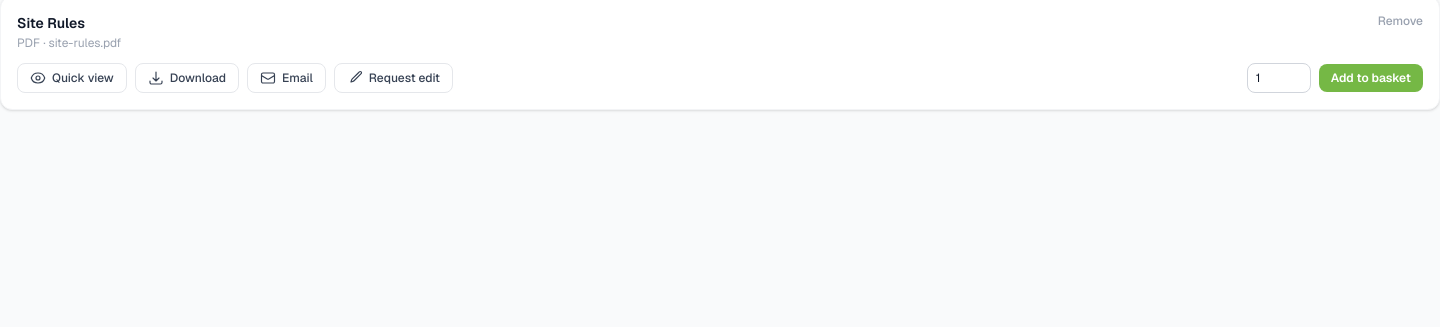
it: request edit › sends the document id and shows a clear confirmation
Click the button "Request edit" at {"x": 393, "y": 78}, box [334, 63, 453, 93]
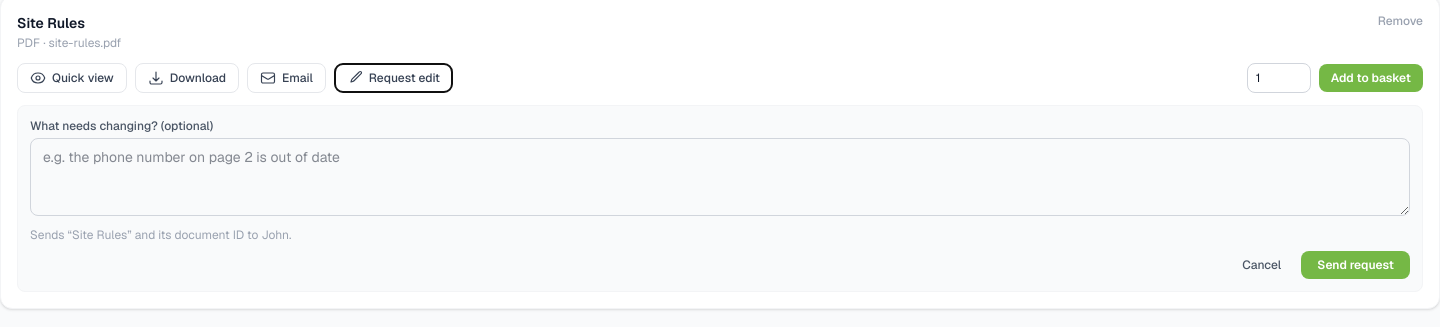
Type "page 2 number is old" into the text box labelled "What needs changing? (optional)" at {"x": 720, "y": 177}, box [30, 138, 1410, 216]
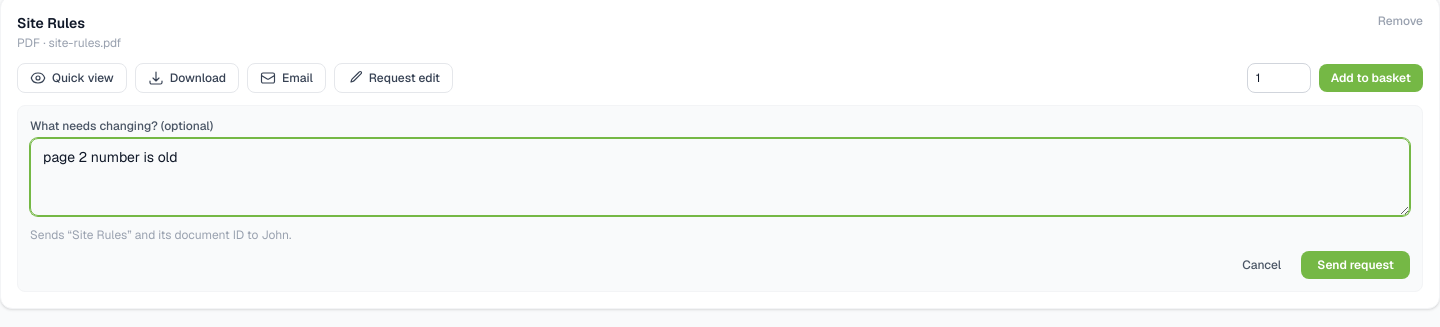
Click the button "Send request" at {"x": 1356, "y": 265}, box [1301, 251, 1410, 279]
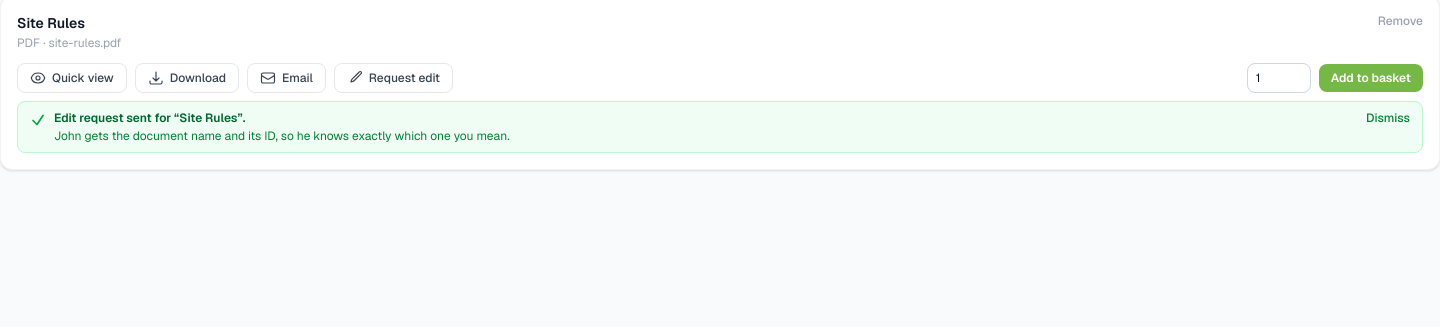
Expected: the text "Edit request sent for “Site Rules”." is shown, [54, 110, 245, 126]
